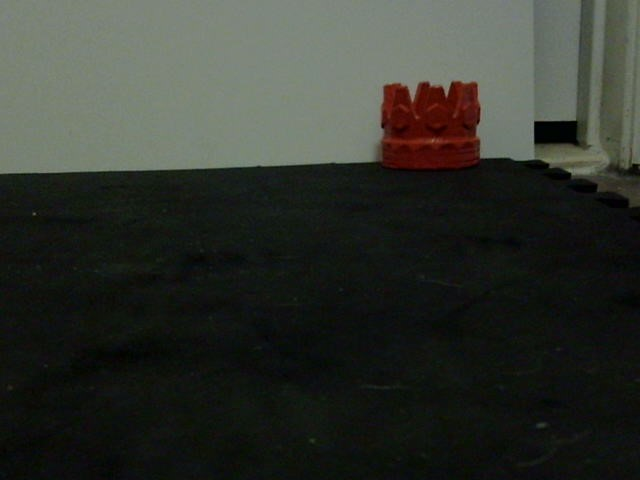crown: (378, 80, 482, 171)
